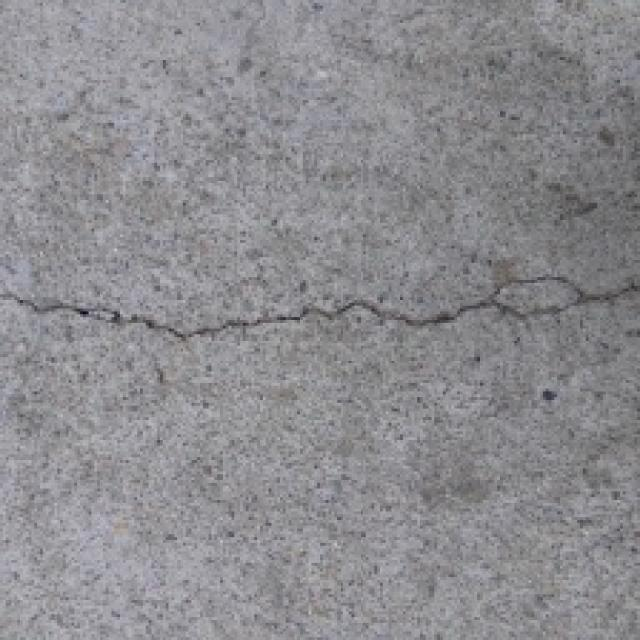crack: (0, 250, 640, 372)
